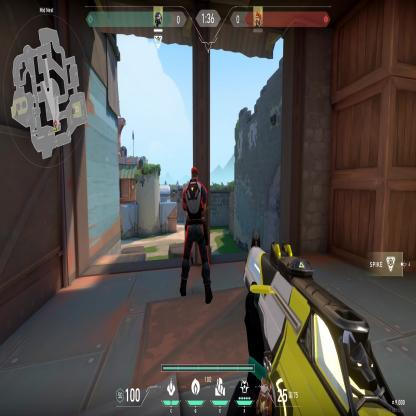enemy: (175, 165, 214, 306)
